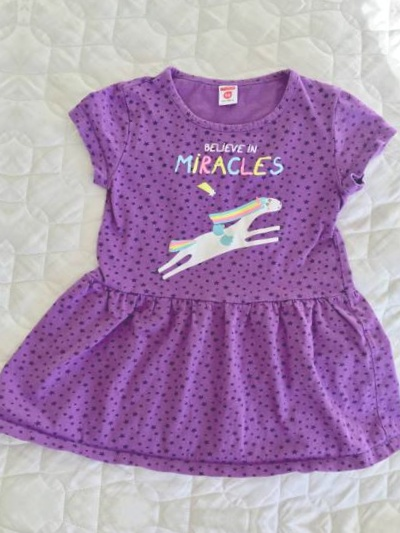Dress: (0, 56, 400, 489), (0, 22, 16, 456)
